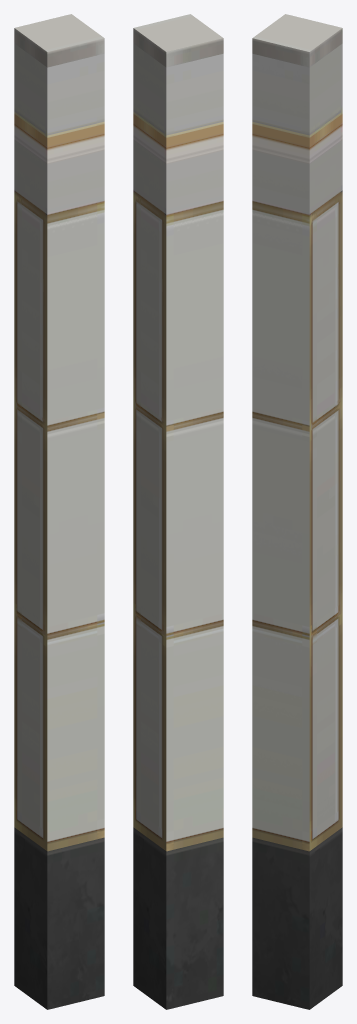
The model's file is my_shoppingmall_01_wall_side.glb.
3 views of the same model, side by side, from view 1: azimuth 30°, elevation 25°; view 2: azimuth 210°, elevation 25°; view 3: azimuth 330°, elevation 25° (orthographic).
Parts seen in each view (by area): view 1: my_shoppingmall_01_wall_side; view 2: my_shoppingmall_01_wall_side; view 3: my_shoppingmall_01_wall_side.
Part boxes in pixels (x1,y1,x2,y2): my_shoppingmall_01_wall_side: (14, 14, 104, 1009); my_shoppingmall_01_wall_side: (133, 14, 223, 1009); my_shoppingmall_01_wall_side: (252, 14, 342, 1009).
Bounding box in the file's own units: 0.003 × 0.048 × 0.003.
Materials: 1 (1 with a texture image).
